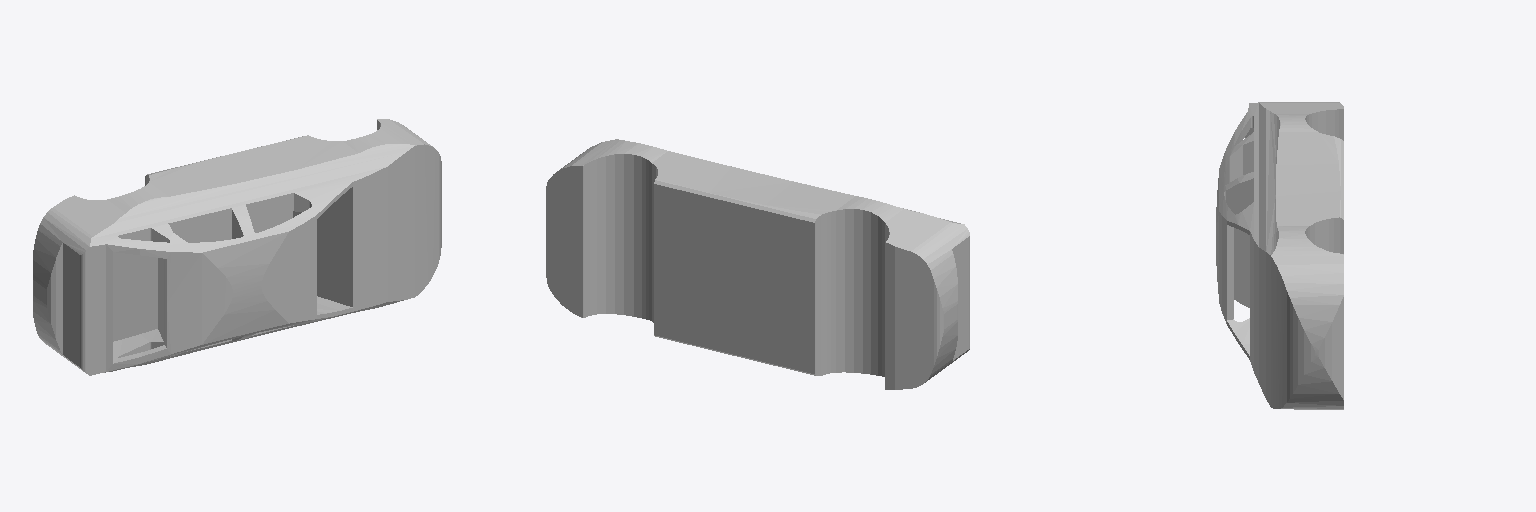
File: sedan_body.obj
The picture shows the model from 3 angles: view 1: azimuth 30°, elevation 25°; view 2: azimuth 150°, elevation 25°; view 3: azimuth 270°, elevation 25°; orthographic projection.
Parts seen in each view (by area): view 1: Fusion; view 2: Fusion; view 3: Fusion.
Boxes of the visible parts, <box> form: Fusion: <box>33,119,441,375</box>; Fusion: <box>546,139,969,389</box>; Fusion: <box>1216,102,1343,409</box>.
Size of the model in its own units: 47.98 by 18.86 by 13.35.